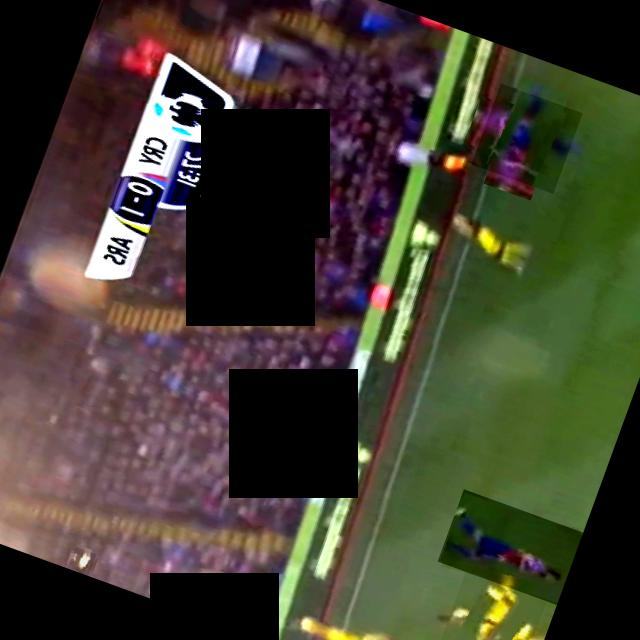ball: (66, 547, 95, 576)
soccer-player: (436, 489, 584, 605), (471, 83, 582, 194), (434, 571, 545, 640)
